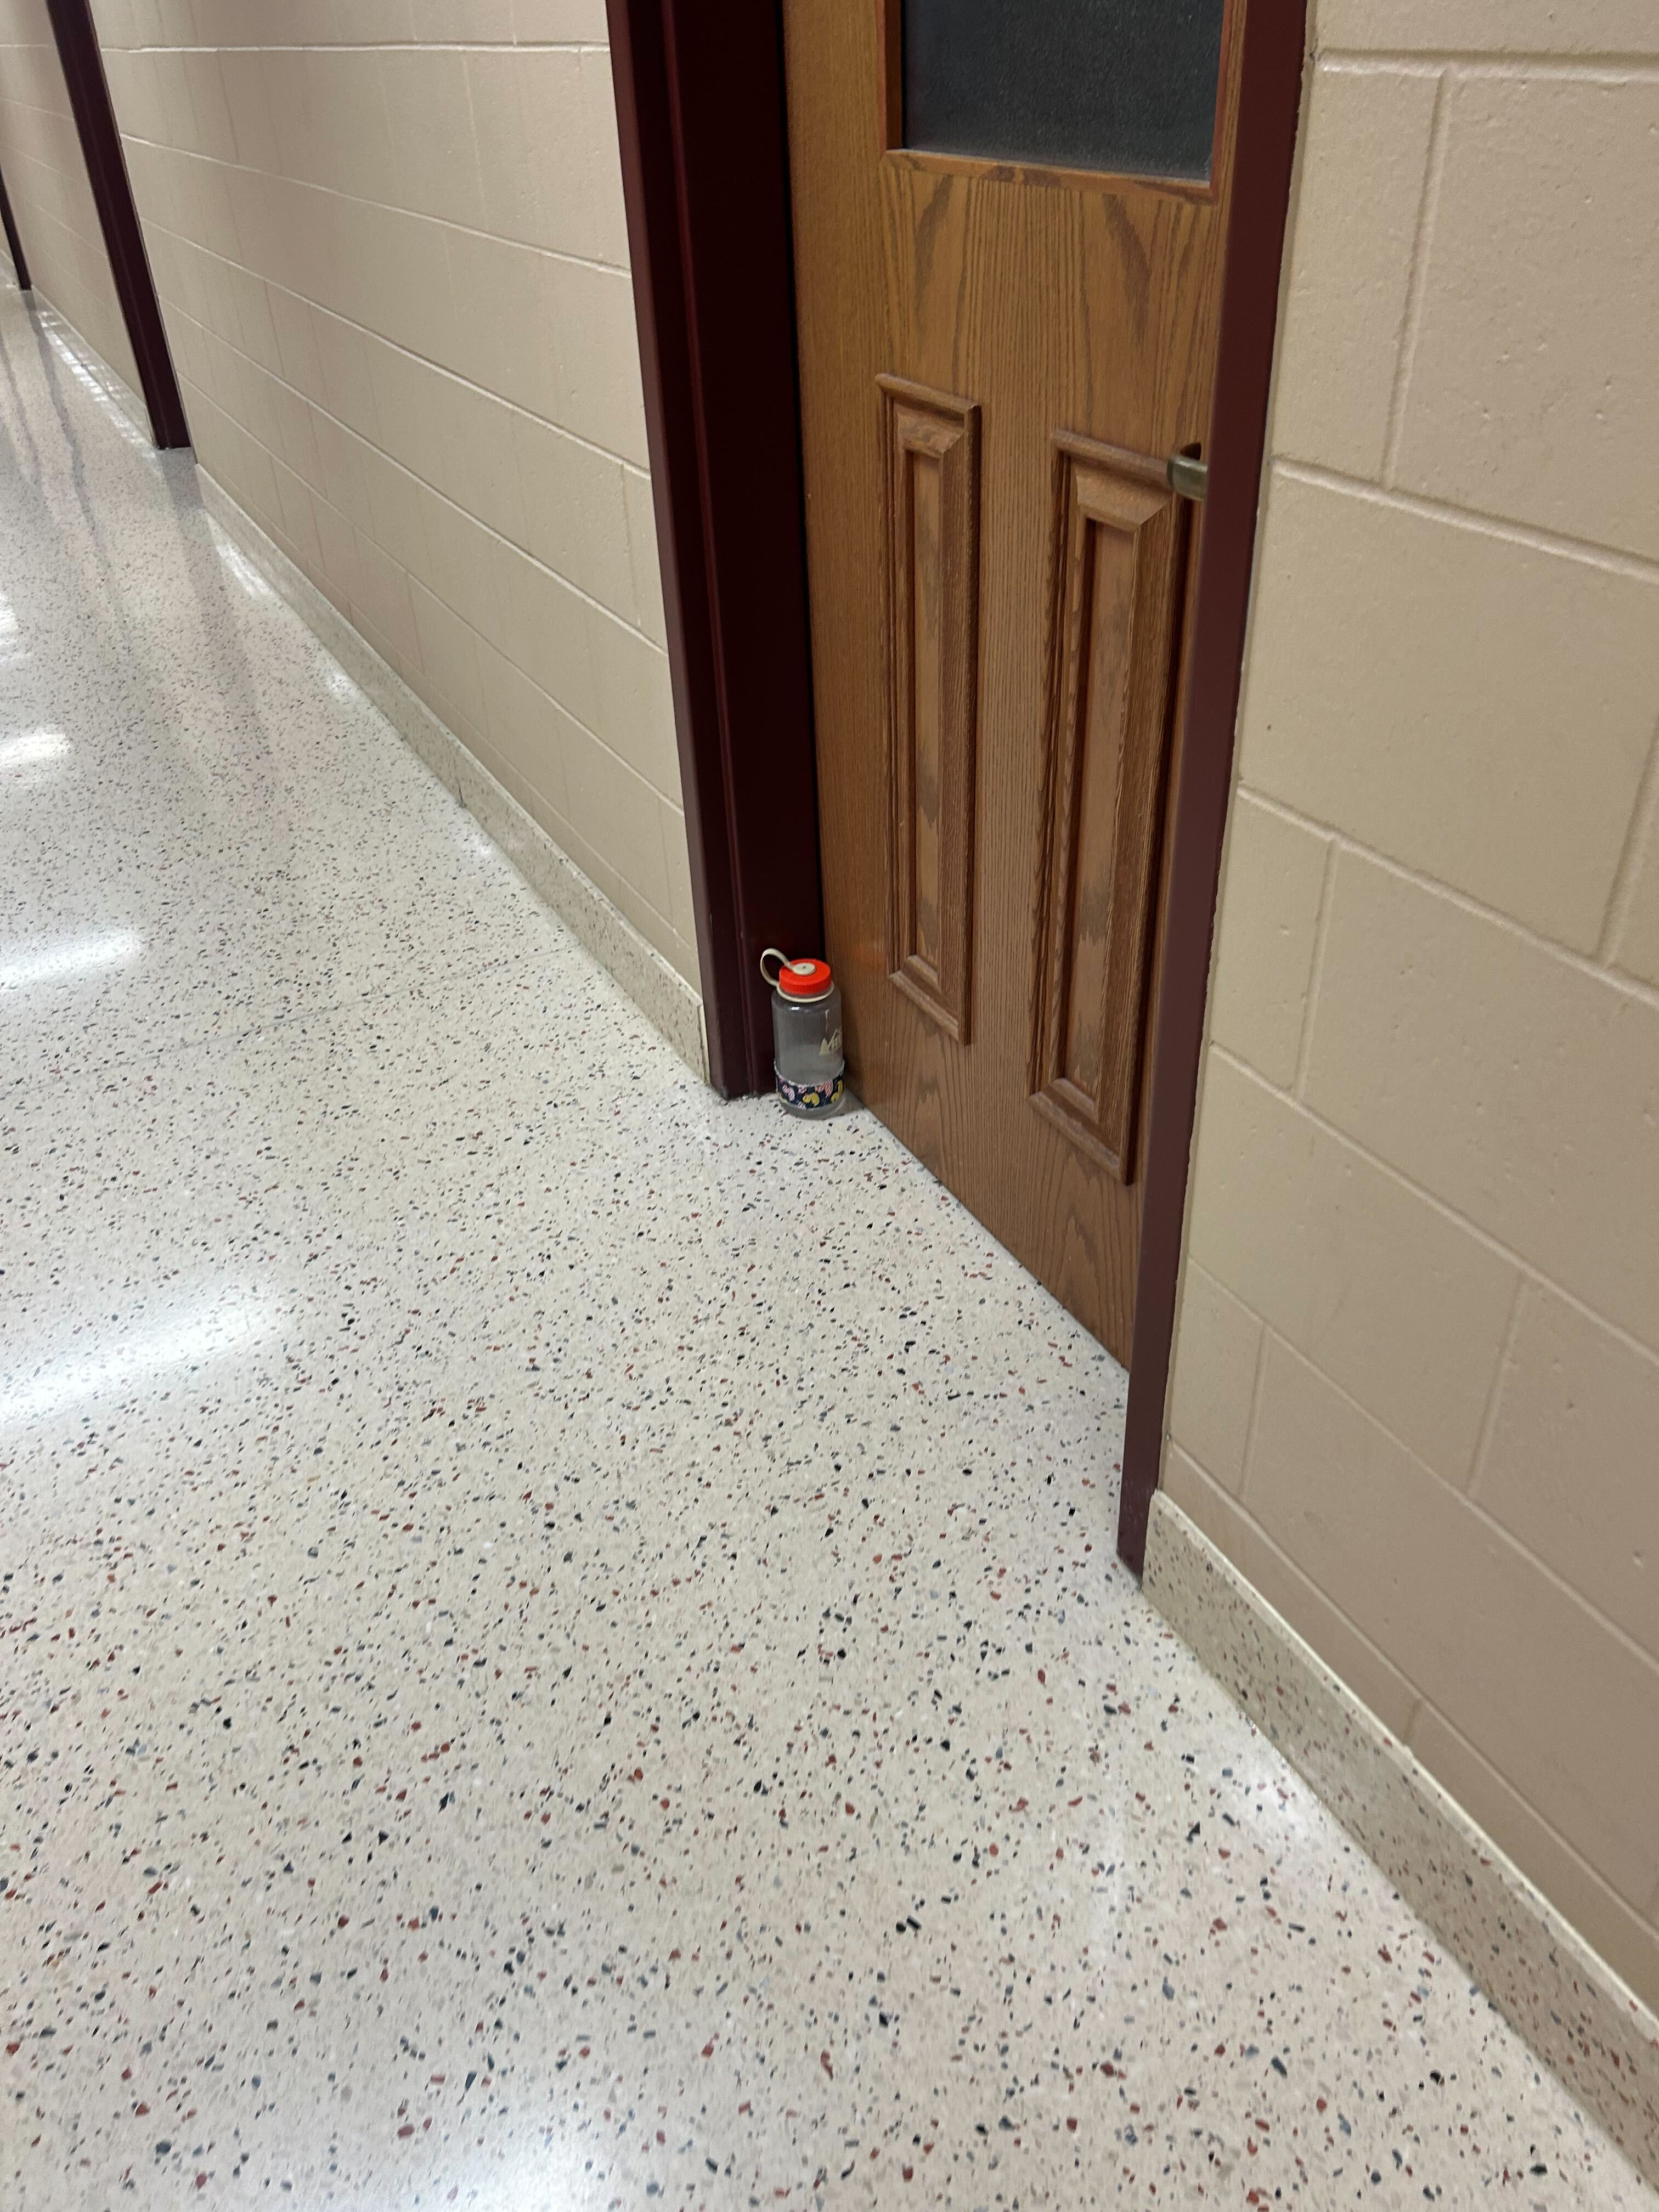bottle: (755, 932, 849, 1127)
